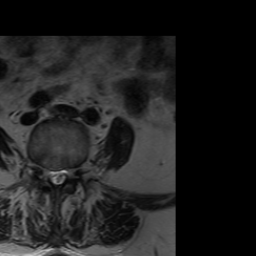CCS_severe_stenosis: (53, 160, 61, 192)
LFS_normal: (69, 158, 77, 186)
LLS_normal: (61, 159, 69, 189)
RFS_normal: (38, 157, 46, 189)
RLS_normal: (46, 159, 53, 190)
